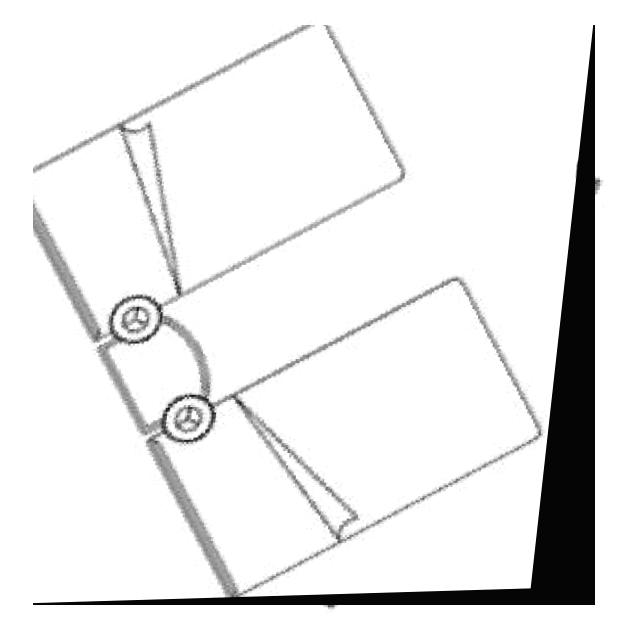bed: (33, 25, 596, 605)
